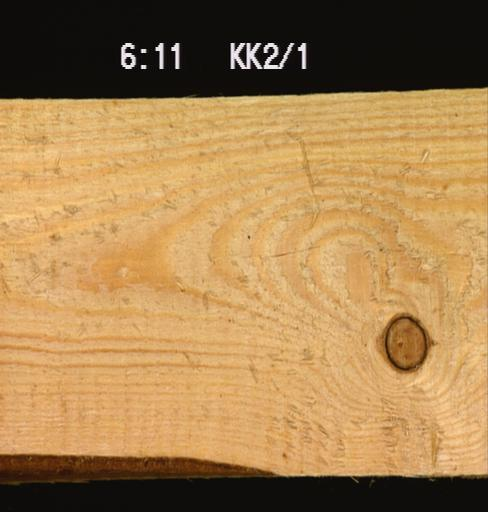dry_knot: (382, 312, 430, 371)
split: (263, 245, 321, 257)
wave: (0, 453, 286, 480)
